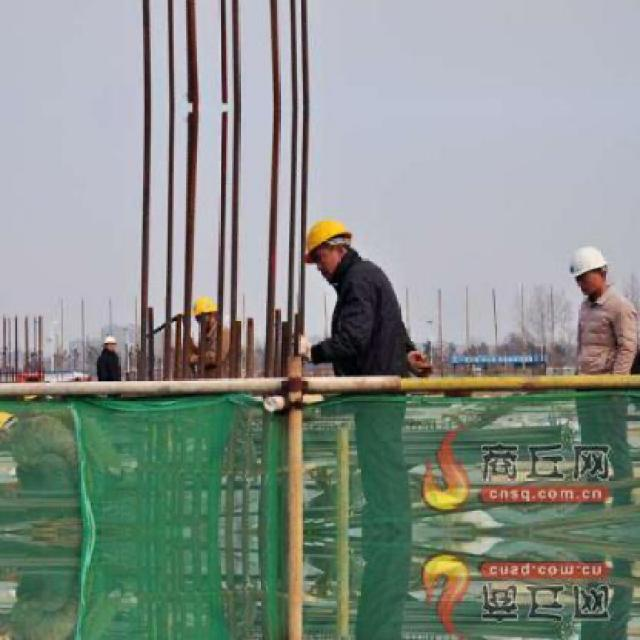helmet: (303, 212, 355, 274), (563, 240, 612, 300), (188, 291, 226, 331), (98, 329, 120, 351)
